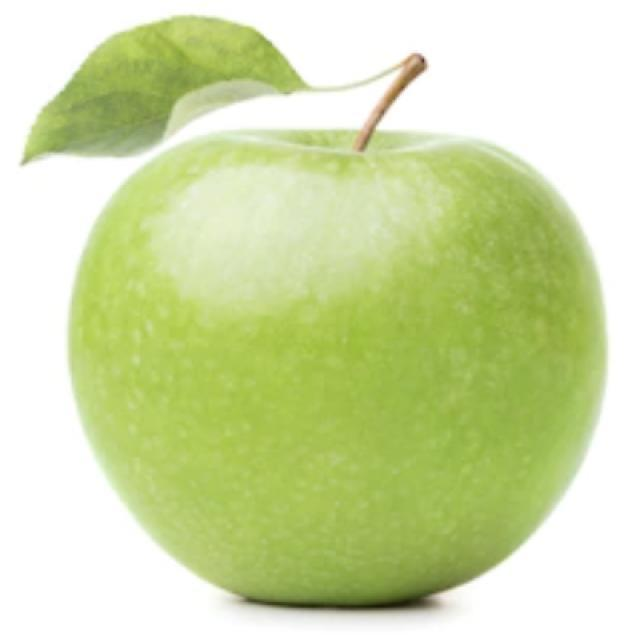Fresh Apple: (102, 145, 623, 575)
